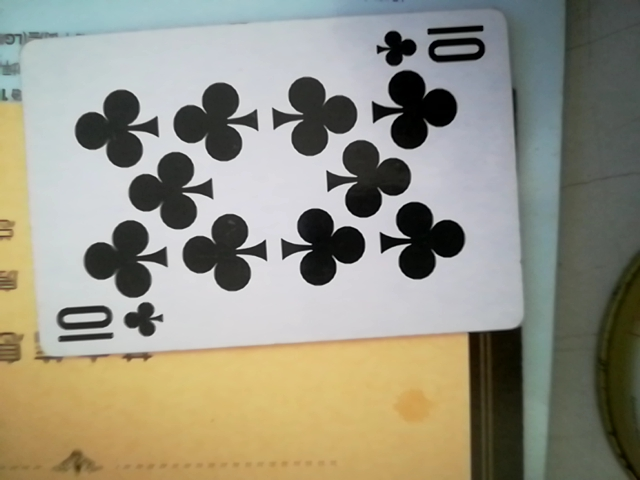mh 10: (17, 8, 520, 367)
